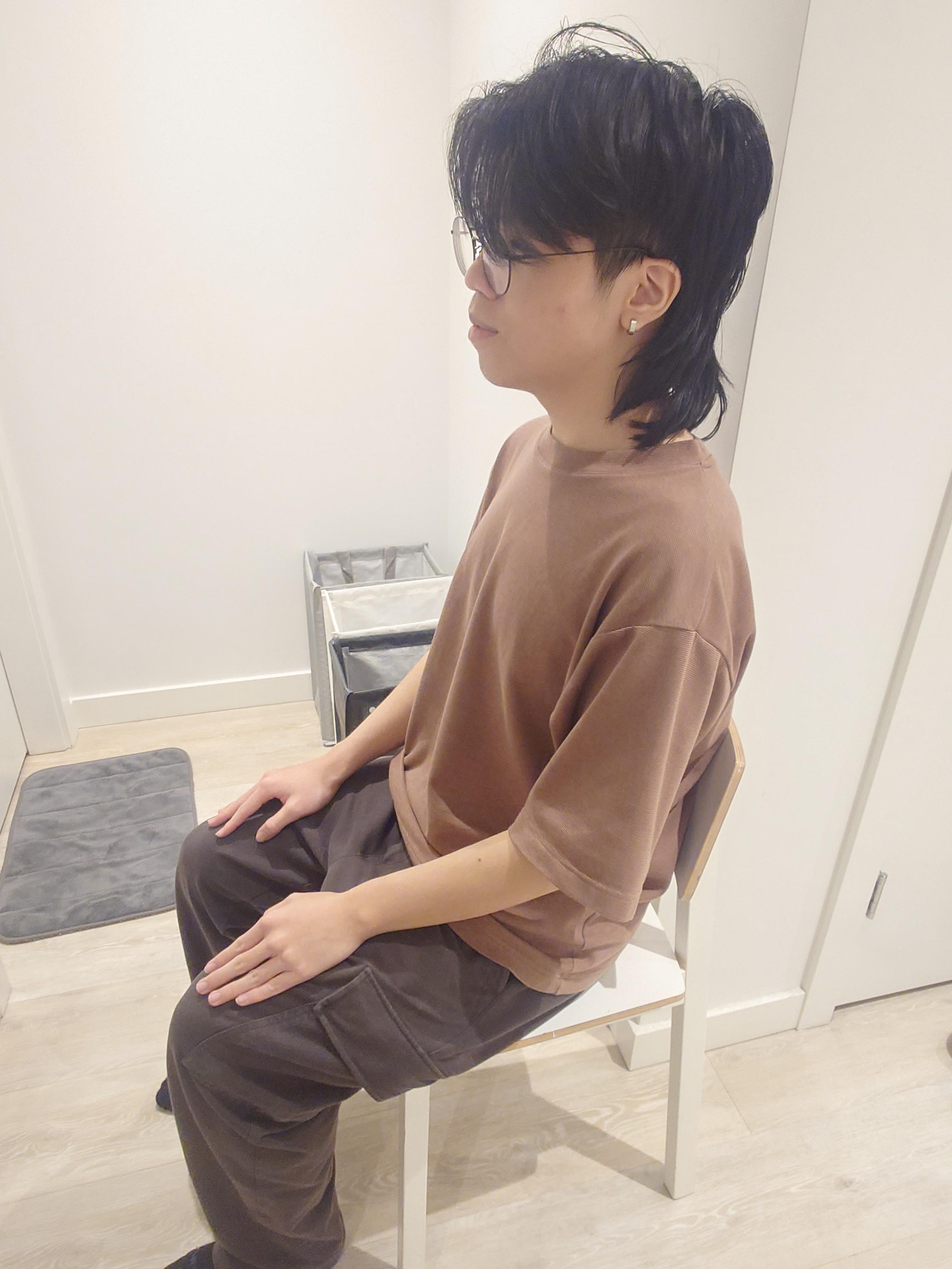GoodPosture: (151, 49, 772, 1269)
